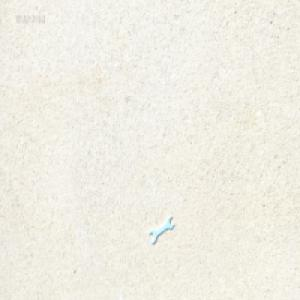Wrench: (149, 217, 173, 245)
